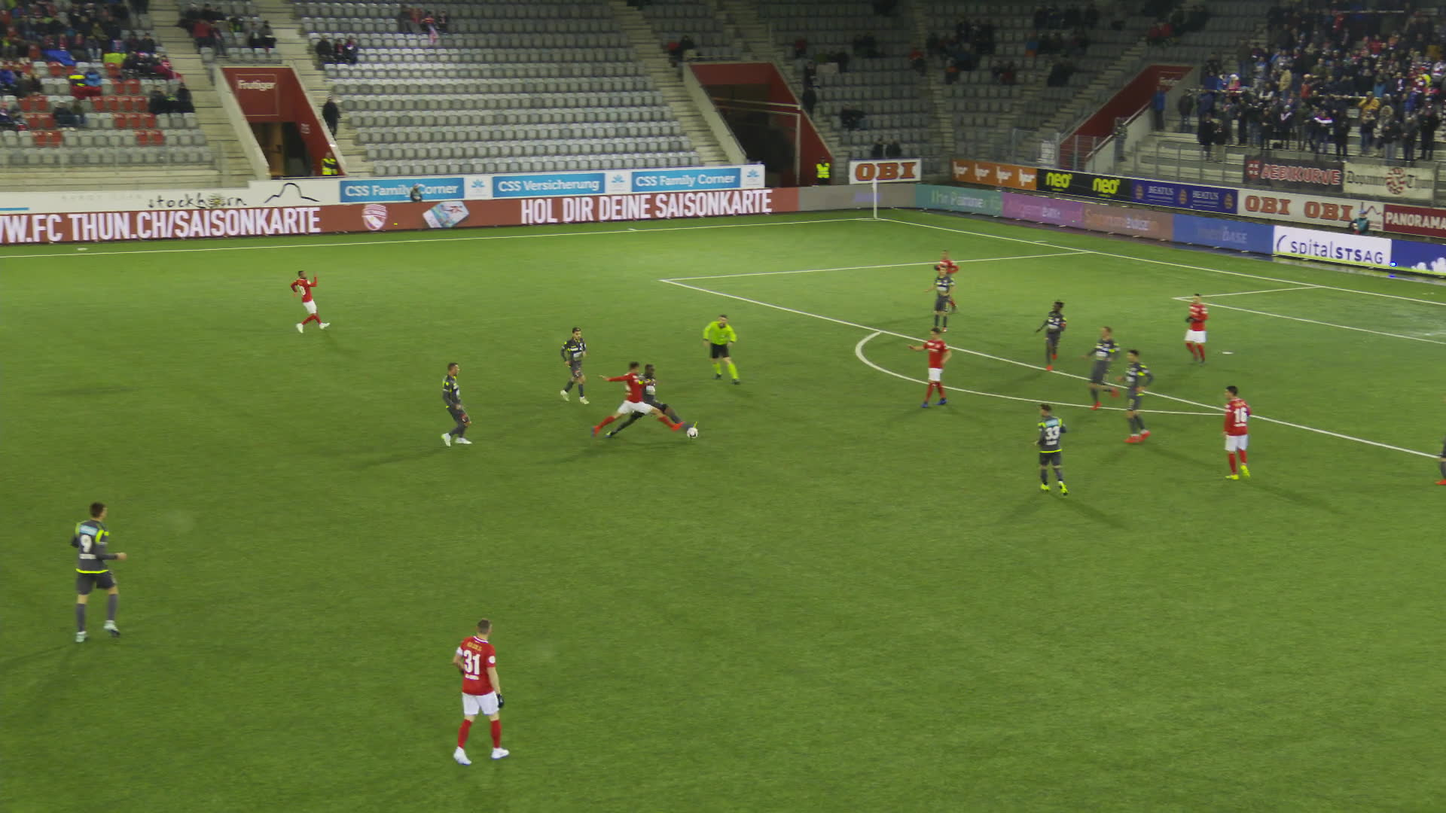ball: (686, 426, 699, 439)
player: (449, 616, 517, 764), (72, 498, 133, 645), (591, 358, 667, 443), (607, 358, 680, 441), (1123, 349, 1166, 445), (1085, 324, 1130, 412), (436, 361, 480, 448), (1036, 400, 1074, 500), (913, 325, 958, 408), (1221, 383, 1258, 483), (557, 327, 593, 403), (289, 270, 328, 334), (1039, 298, 1072, 370), (1186, 291, 1217, 367), (928, 263, 959, 330), (939, 251, 965, 318), (1432, 439, 1445, 489)
referee: (707, 312, 744, 385)
